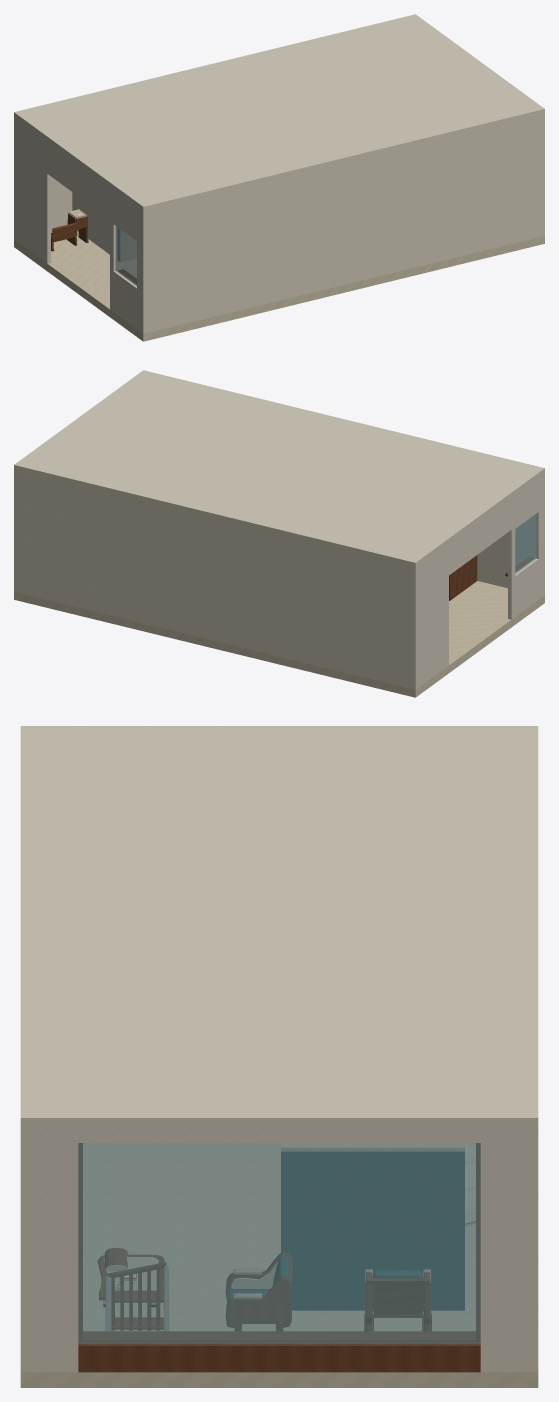
The model's file is QuietGroveBank_361_r001.glb.
3 renders of one model, top to bottom at view 1: azimuth 30°, elevation 25°; view 2: azimuth 150°, elevation 25°; view 3: azimuth 270°, elevation 25°, orthographic. The views are drawn at different scales.
Parts seen in each view (by area): view 1: QG361_Ceiling, QG361_NorthSide, QG361_RoomFloor, QG361_EntryShoulderSouth, QG361_EntryHeader, QG361_StreetWindowLower, QG361_WashEntrySide, QG361_SouthSide, QG361_StreetWindowUpper, QG361_ScreenedStreetGlass, QGB361_CourtSouthPier; view 2: QG361_Ceiling, QG361_SouthSide, QG361_RoomFloor, QG361_EntryShoulderSouth, QG361_NorthSide, QG361_EntryHeader, QG361_StreetWindowLower, QG361_StreetWindowUpper, QG361_ScreenedStreetGlass, QGB361_CourtNorthPier, QG361_EntryPrivacyDogleg; view 3: QG361_Ceiling, QGB361_PrivateCourtGlass, QG361_RoomFloor, QG361_Cocoon01_RearLiner, QGB361_CourtSouthPier, QGB361_CourtNorthPier, QGB361_CourtSill, QGB361_CourtHeader, QGB361_DeepReveal_0.34, QG361_NorthSide, QG361_SouthSide, QG361_QG361_DayReadingChair__DAY_CHAIR_L_swept_walnut_cheek (+5 smaller).
Part boxes in pixels (<box>): QG361_Ceiling: <box>14,14,544,211</box>; QG361_NorthSide: <box>141,114,544,333</box>; QG361_RoomFloor: <box>14,231,544,341</box>; QG361_EntryShoulderSouth: <box>16,119,50,263</box>; QG361_EntryHeader: <box>47,142,110,219</box>; QG361_StreetWindowLower: <box>110,269,141,331</box>; QG361_WashEntrySide: <box>72,192,123,261</box>; QG361_SouthSide: <box>14,117,72,240</box>; QG361_StreetWindowUpper: <box>110,188,141,243</box>; QG361_ScreenedStreetGlass: <box>115,226,136,285</box>; QGB361_CourtSouthPier: <box>537,114,544,237</box>; QG361_Ceiling: <box>14,370,544,567</box>; QG361_SouthSide: <box>14,470,417,689</box>; QG361_RoomFloor: <box>14,581,544,697</box>; QG361_EntryShoulderSouth: <box>417,544,448,687</box>; QG361_NorthSide: <box>477,473,544,596</box>; QG361_EntryHeader: <box>448,497,512,575</box>; QG361_StreetWindowLower: <box>508,556,542,619</box>; QG361_StreetWindowUpper: <box>510,475,542,531</box>; QG361_ScreenedStreetGlass: <box>515,514,536,573</box>; QGB361_CourtNorthPier: <box>14,471,21,593</box>; QG361_EntryPrivacyDogleg: <box>449,555,477,600</box>; QG361_Ceiling: <box>20,726,538,1128</box>; QGB361_PrivateCourtGlass: <box>78,1143,480,1344</box>; QG361_RoomFloor: <box>20,1143,538,1387</box>; QG361_Cocoon01_RearLiner: <box>285,1152,460,1310</box>; QGB361_CourtSouthPier: <box>20,1128,78,1372</box>; QGB361_CourtNorthPier: <box>480,1128,538,1372</box>; QGB361_CourtSill: <box>78,1342,480,1372</box>; QGB361_CourtHeader: <box>78,1128,480,1142</box>; QGB361_DeepReveal_0.34: <box>80,1331,480,1341</box>; QG361_NorthSide: <box>20,1128,29,1372</box>; QG361_SouthSide: <box>529,1128,538,1372</box>; QG361_QG361_DayReadingChair__DAY_CHAIR_L_swept_walnut_cheek: <box>226,1276,291,1327</box>.
Bounding box in the file's own units: 12.9 × 4.14 × 7.2.
64 materials, 49 textured.
